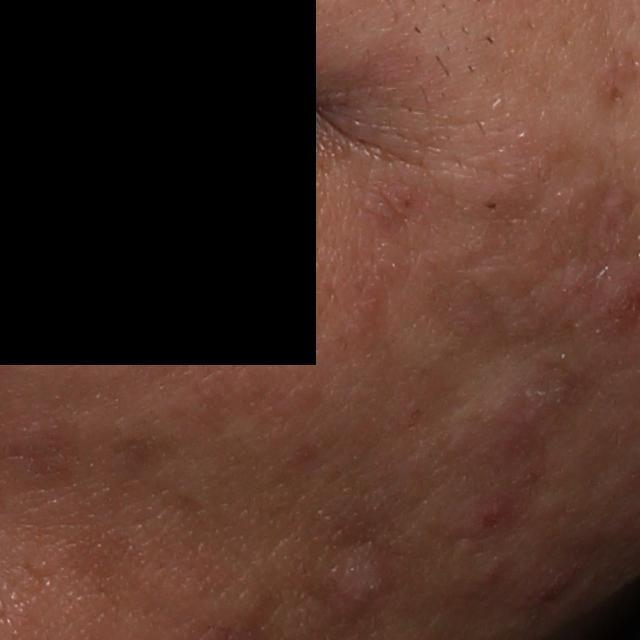papule: (325, 539, 395, 633), (463, 483, 529, 543)
